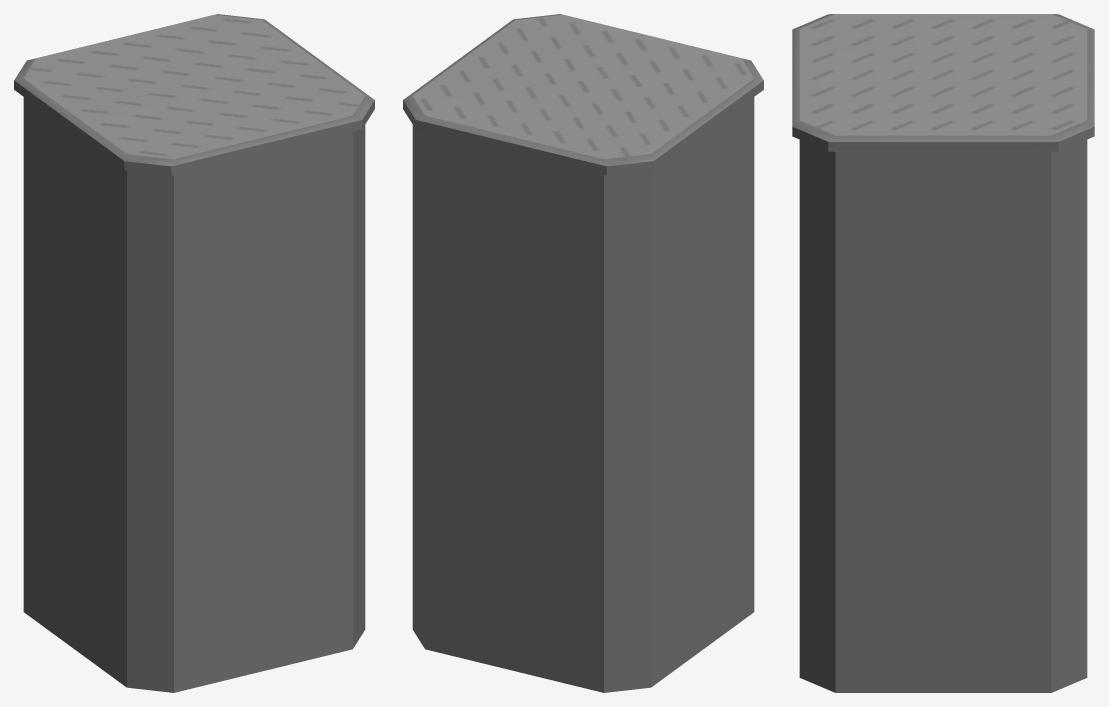
File: Stone 2.fbx
3 views of the same model, side by side, from view 1: azimuth 30°, elevation 25°; view 2: azimuth 150°, elevation 25°; view 3: azimuth 270°, elevation 25° (orthographic). The views are drawn at different scales.
Visible parts, largest first — view 1: Stone_2; view 2: Stone_2; view 3: Stone_2.
Part boxes in pixels (x1,y1,x2,y2): Stone_2: (14, 14, 374, 692); Stone_2: (403, 14, 763, 692); Stone_2: (792, 14, 1094, 692).
Bounding box in the file's own units: 4.2 × 8.55 × 4.2.
